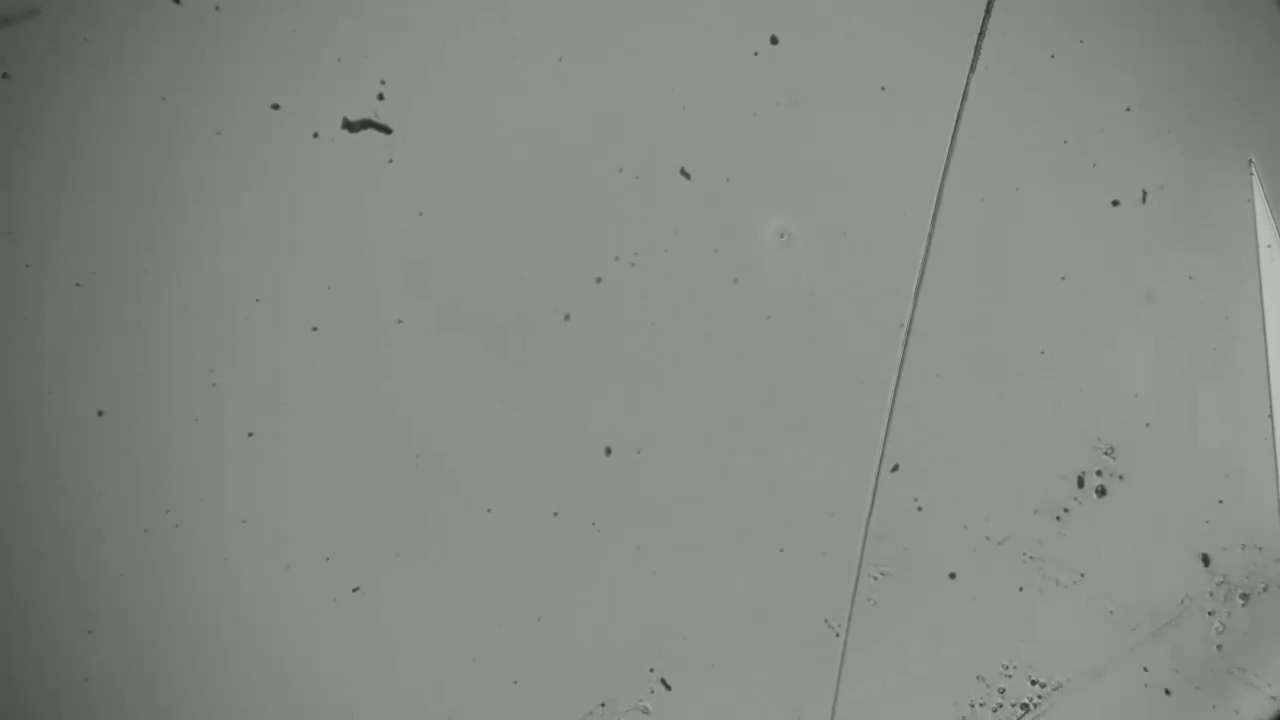scratch: (828, 4, 1013, 710)
